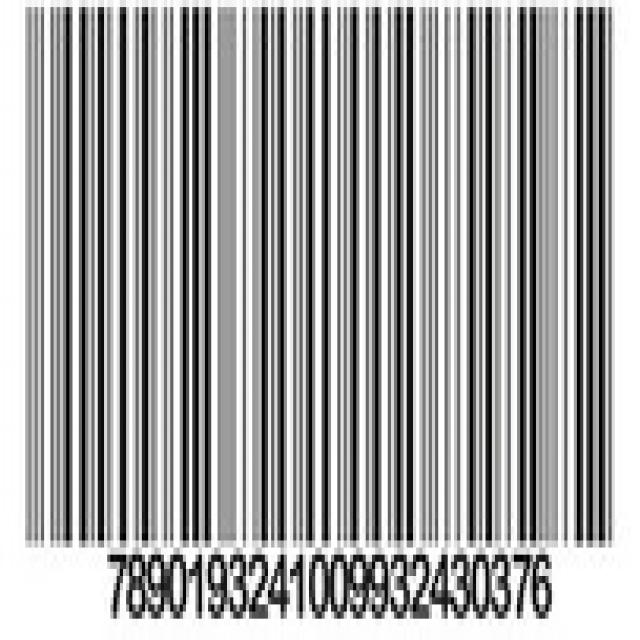Barkod: (19, 0, 621, 631)
